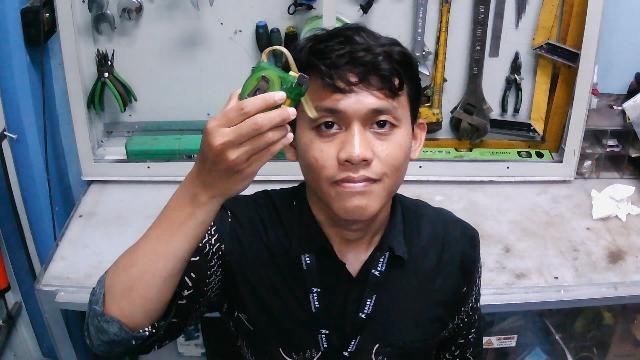meteran: (232, 47, 321, 129)
